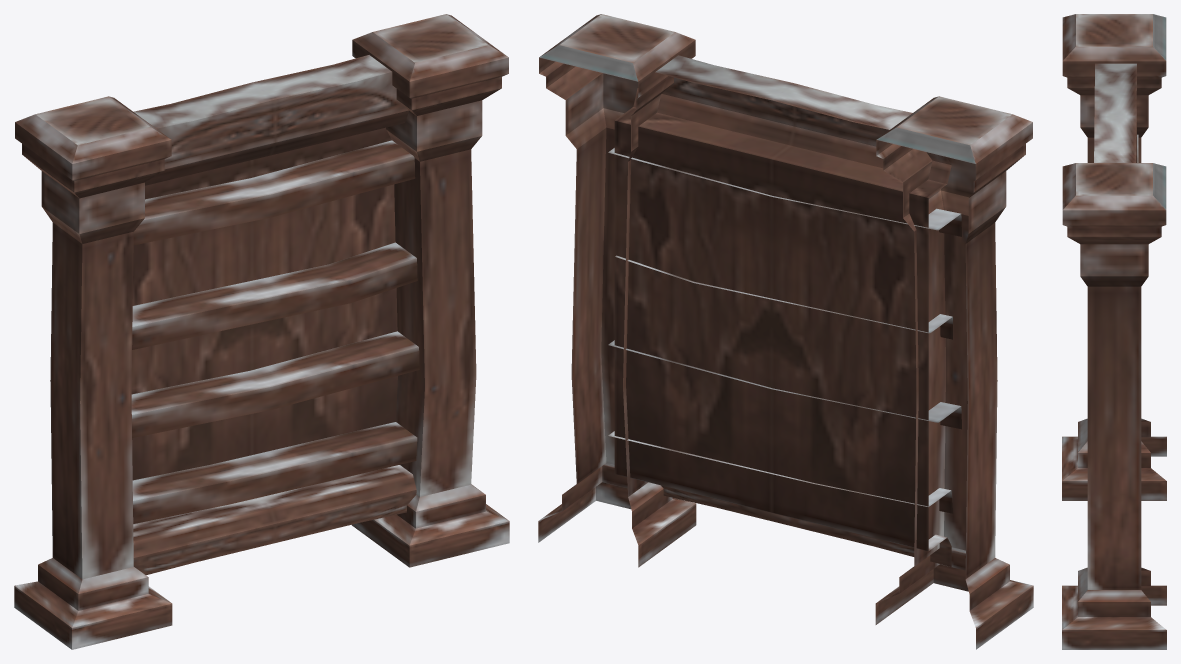
File: prop_list_22_2.FBX
3 views of the same model, side by side, from view 1: azimuth 30°, elevation 25°; view 2: azimuth 150°, elevation 25°; view 3: azimuth 270°, elevation 25° (orthographic). The views are drawn at different scales.
Parts seen in each view (by area): view 1: prop_list_22; view 2: prop_list_22; view 3: prop_list_22.
Part boxes in pixels (left/top/right/bottom): prop_list_22: left=14, top=14, right=509, bottom=649; prop_list_22: left=538, top=14, right=1033, bottom=649; prop_list_22: left=1062, top=14, right=1166, bottom=649.
Bounding box in the file's own units: 70.77 × 76.59 × 16.22.
